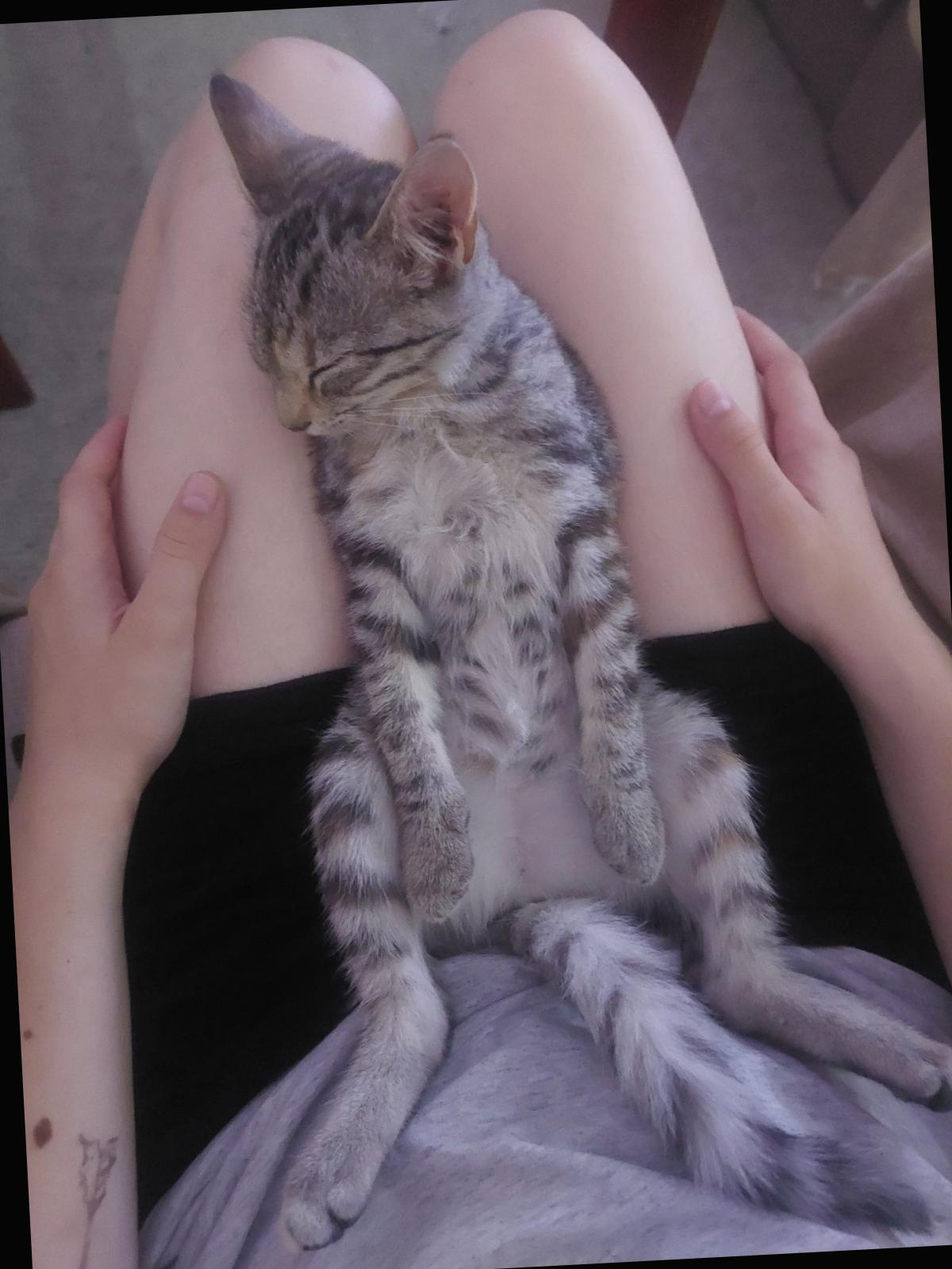macka: (209, 33, 952, 1265)
